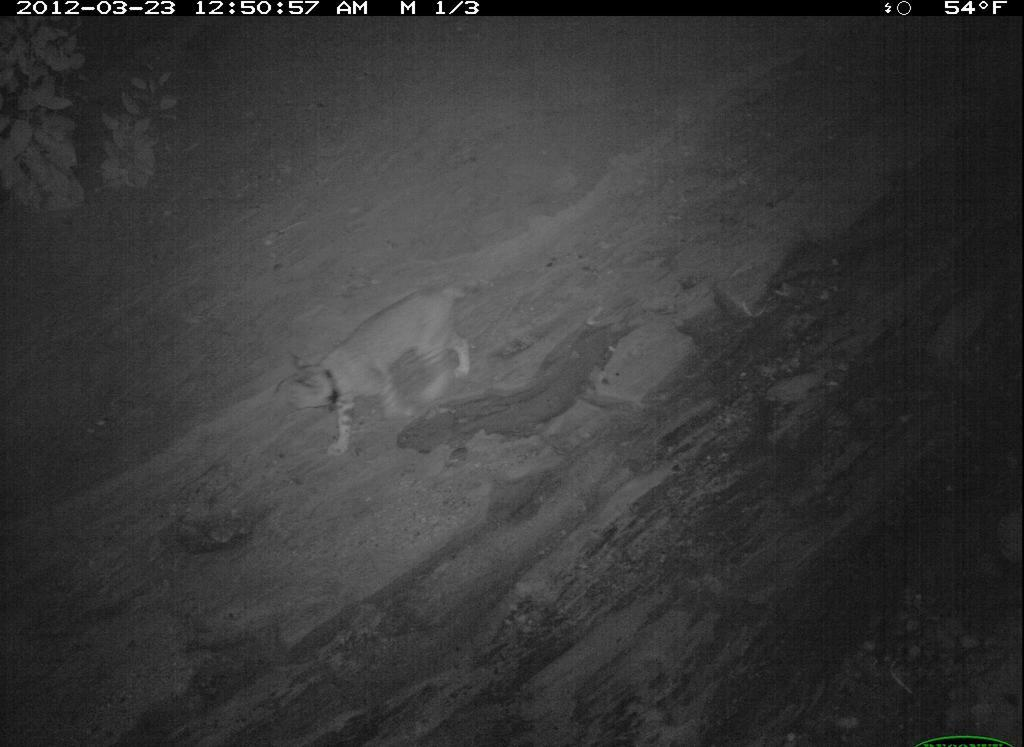bobcat: (564, 553, 961, 747)
